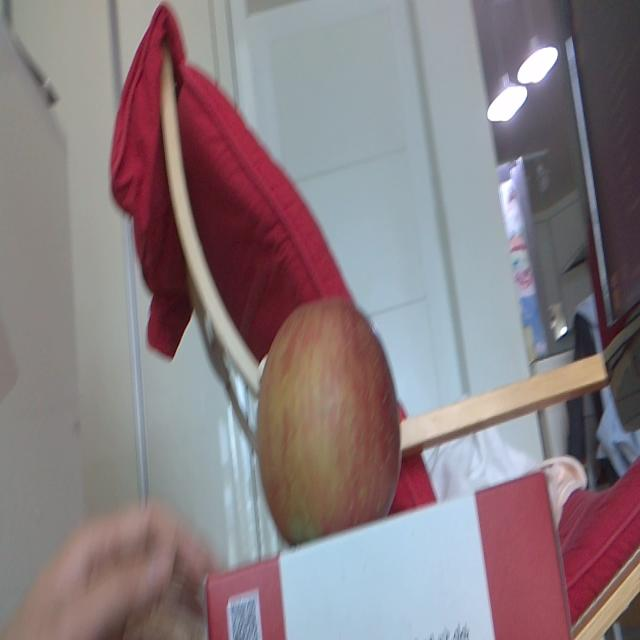apple: (256, 296, 402, 547)
